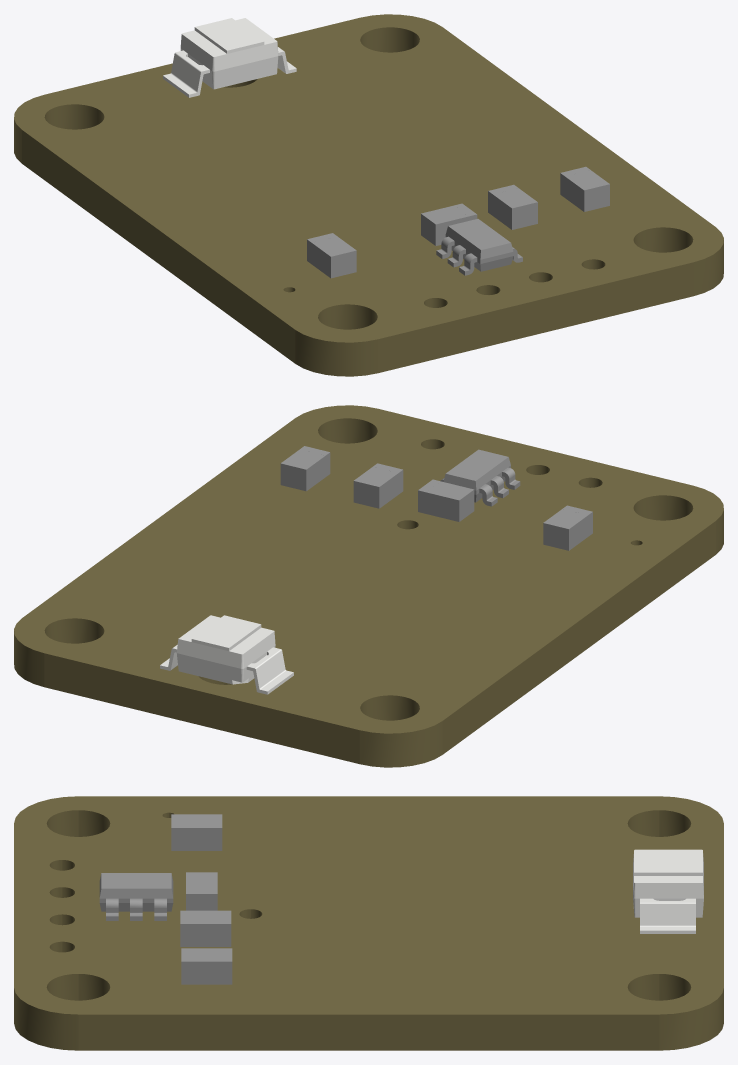
Rendered from ada-1374.glb.
3 views of the same model, one above another, from view 1: azimuth 30°, elevation 25°; view 2: azimuth 150°, elevation 25°; view 3: azimuth 270°, elevation 25° (orthographic). The views are drawn at different scales.
Parts seen in each view (by area): view 1: 0.16666666666666666_0.16666666666666666_0.08333333333333333_, 0.3333333333333333_0.3333333333333333_0.3333333333333333_0, 0.9166666666666666_0.9166666666666666_0.9166666666666666_0.8; view 2: 0.16666666666666666_0.16666666666666666_0.08333333333333333_, 0.3333333333333333_0.3333333333333333_0.3333333333333333_0, 0.9166666666666666_0.9166666666666666_0.9166666666666666_0.8; view 3: 0.16666666666666666_0.16666666666666666_0.08333333333333333_, 0.3333333333333333_0.3333333333333333_0.3333333333333333_0, 0.9166666666666666_0.9166666666666666_0.9166666666666666_0.8.
Part boxes in pixels (x1=…): 0.16666666666666666_0.16666666666666666_0.08333333333333333_: x1=14, y1=14, x2=723, y2=376; 0.3333333333333333_0.3333333333333333_0.3333333333333333_0: x1=307, y1=166, x2=609, y2=278; 0.9166666666666666_0.9166666666666666_0.9166666666666666_0.8: x1=163, y1=18, x2=296, y2=97; 0.16666666666666666_0.16666666666666666_0.08333333333333333_: x1=14, y1=405, x2=723, y2=767; 0.3333333333333333_0.3333333333333333_0.3333333333333333_0: x1=280, y1=446, x2=592, y2=550; 0.9166666666666666_0.9166666666666666_0.9166666666666666_0.8: x1=160, y1=615, x2=293, y2=694; 0.16666666666666666_0.16666666666666666_0.08333333333333333_: x1=14, y1=796, x2=723, y2=1050; 0.3333333333333333_0.3333333333333333_0.3333333333333333_0: x1=99, y1=814, x2=232, y2=984; 0.9166666666666666_0.9166666666666666_0.9166666666666666_0.8: x1=633, y1=849, x2=703, y2=933.
Size of the model in its own units: 2.03 by 0.3444 by 2.79.
